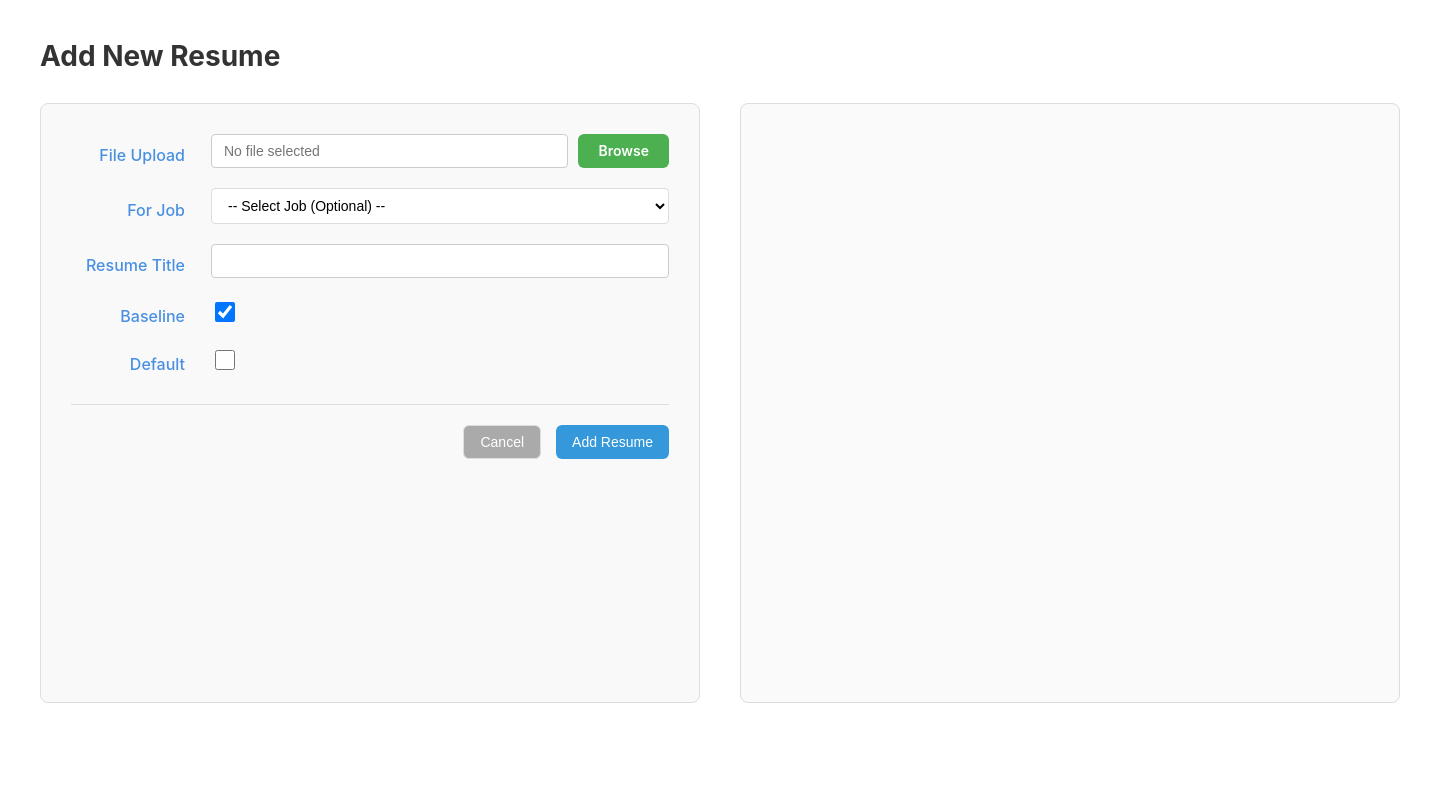
Test case: ResumeForm Component › Baseline and Default Checkboxes › baseline checkbox controls default checkbox
The width and height of the screenshot is (1440, 810).
Check: the text "Baseline" is shown, box [120,306,185,326]
Note: Uncheck baseline
Click the checkbox next to "Baseline" at point(225, 312), box [215,302,235,322]
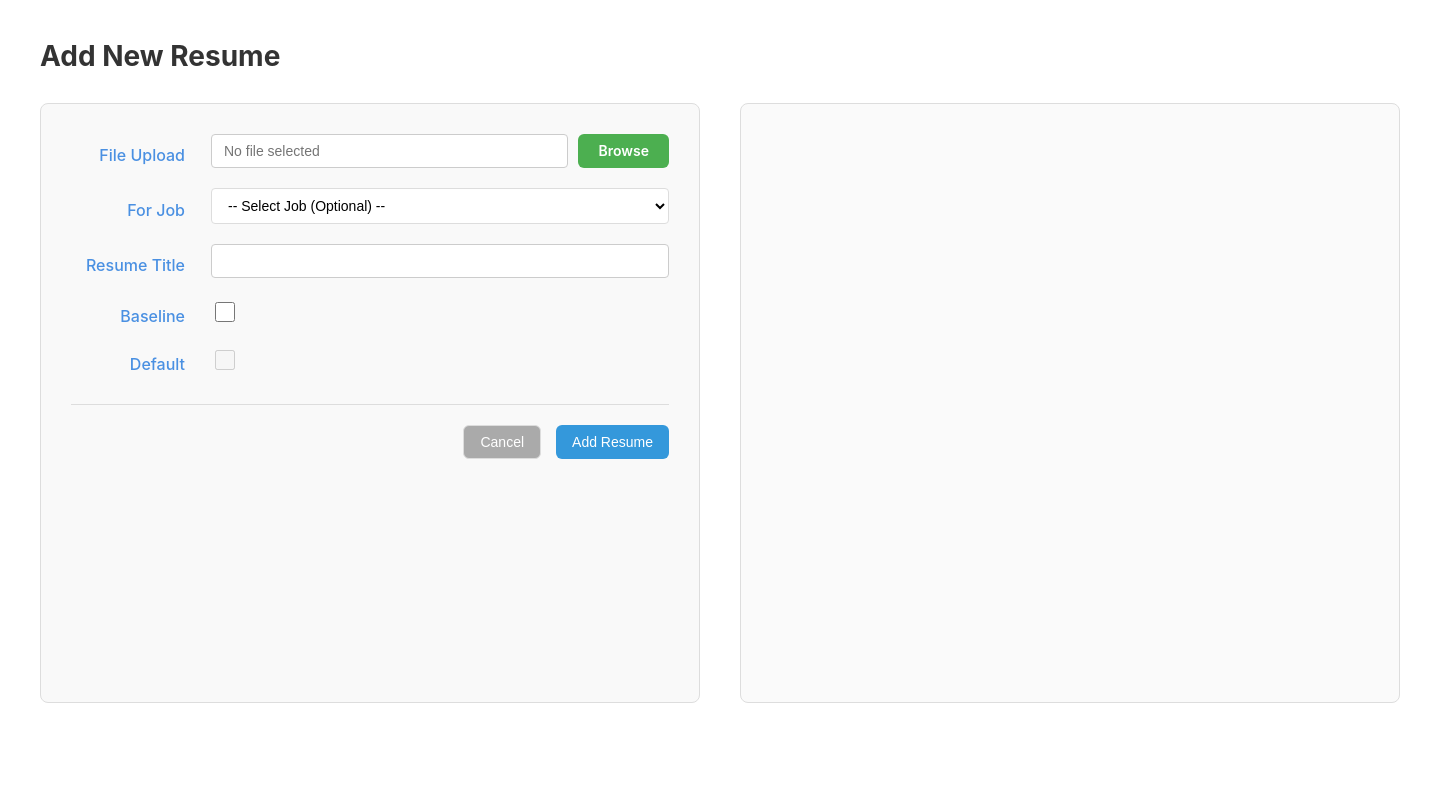
Check: the checkbox next to "Default" is disabled, box [215,350,235,370]
